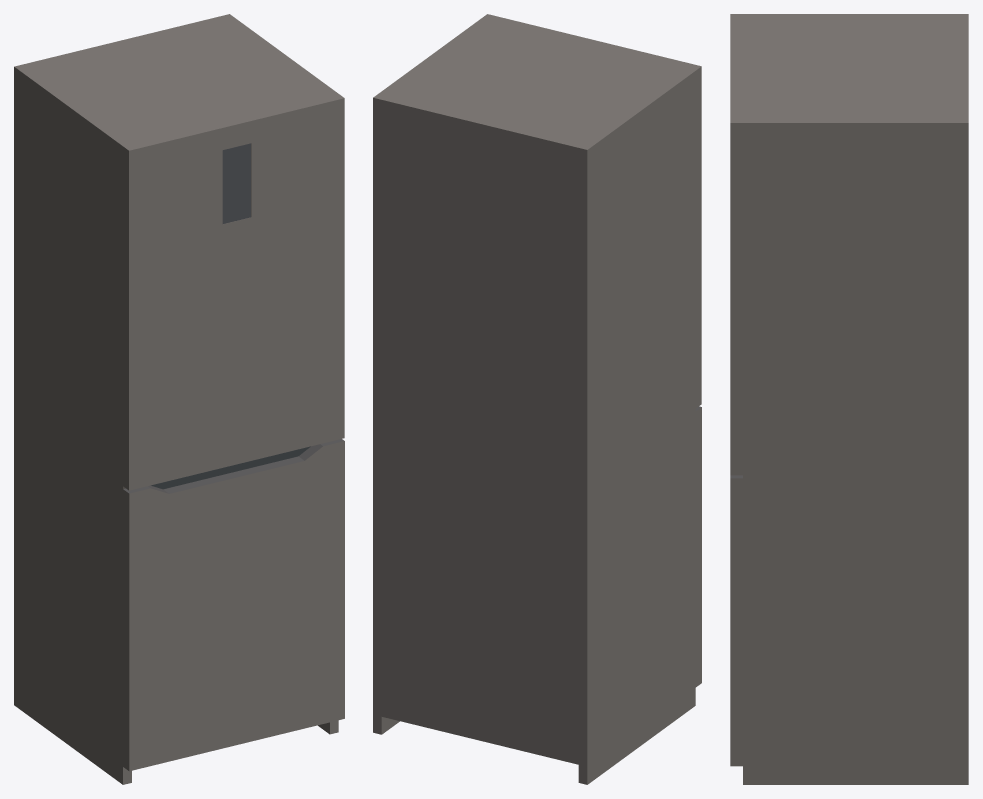
Rendered from fridge_01_A.gltf.
3 renders of one model, left to right at view 1: azimuth 30°, elevation 25°; view 2: azimuth 150°, elevation 25°; view 3: azimuth 270°, elevation 25°, orthographic. The views are drawn at different scales.
Visible parts, largest first — view 1: fridge_01_A, Doorfridgetop_01_A, Doorfridgebot_01_A; view 2: fridge_01_A, Doorfridgetop_01_A, Doorfridgebot_01_A; view 3: fridge_01_A, Doorfridgetop_01_A, Doorfridgebot_01_A.
Part boxes in pixels (x1,y1,x2,y2): fridge_01_A: [14, 14, 338, 784]; Doorfridgetop_01_A: [123, 94, 344, 490]; Doorfridgebot_01_A: [123, 439, 344, 771]; fridge_01_A: [373, 18, 695, 784]; Doorfridgetop_01_A: [481, 14, 701, 408]; Doorfridgebot_01_A: [695, 406, 701, 687]; fridge_01_A: [743, 14, 968, 784]; Doorfridgetop_01_A: [730, 14, 742, 475]; Doorfridgebot_01_A: [730, 475, 742, 766].
Size of the model in its own units: 0.8 by 2.26 by 0.7399.
Materials: 1 (1 with a texture image).
